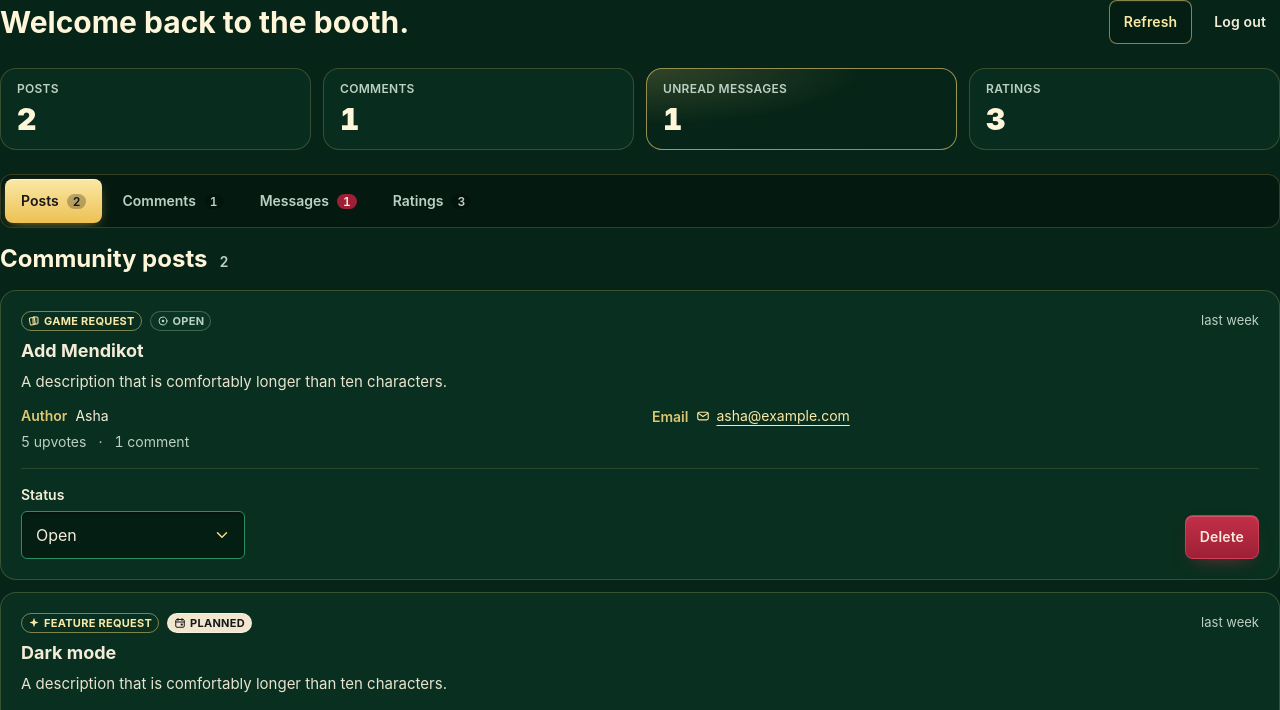
Test case: AdminApp — posts › deletes a post only after confirming in a dialog
Expected: the list item with test id "admin-post-1" is shown, [0, 290, 1279, 580]
Click the button with test id "admin-delete-1" at point(1222, 537), box [1185, 515, 1259, 559]
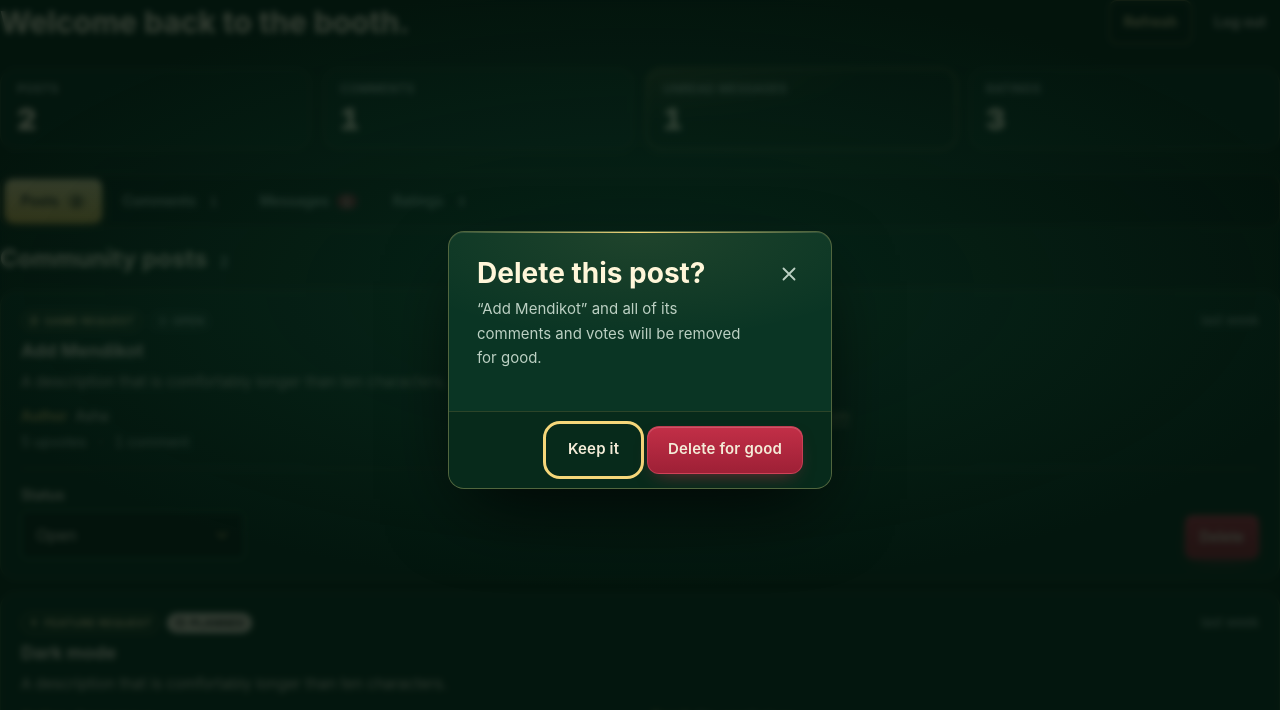
Click the button with test id "admin-confirm-cancel" at point(594, 450), box [548, 426, 639, 474]
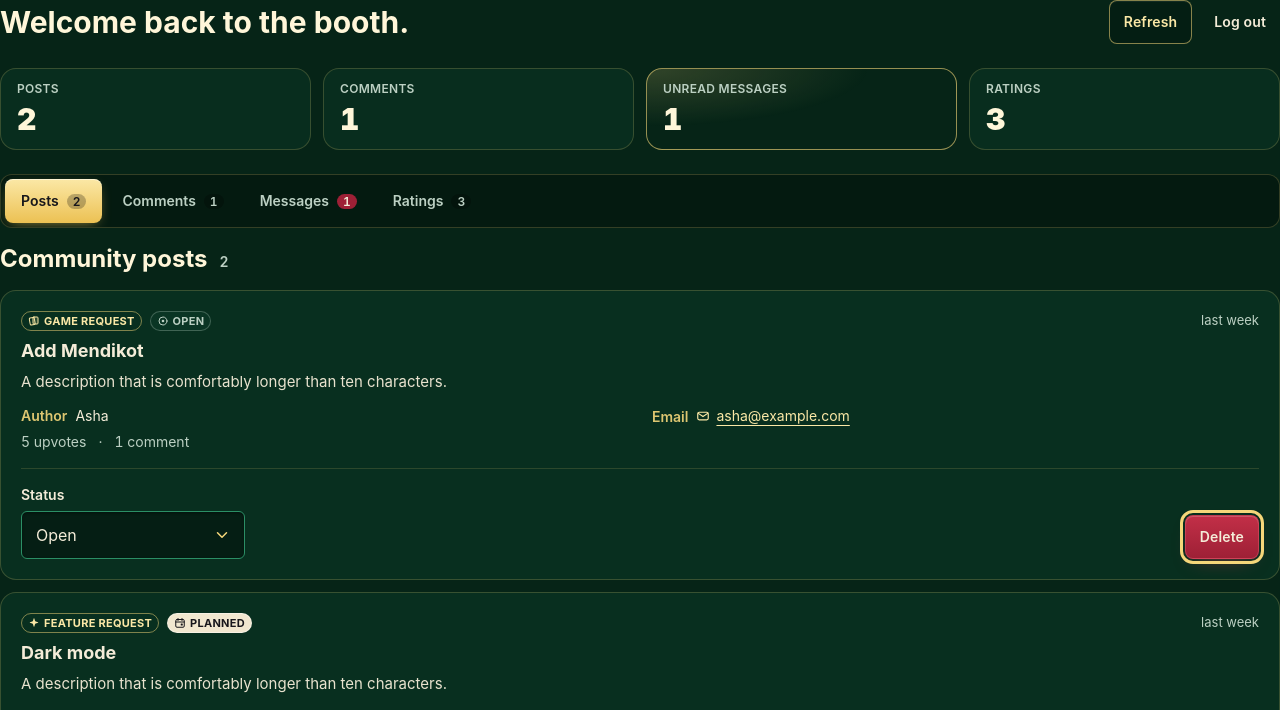
Expected: the dialog is gone
Click the button with test id "admin-delete-1" at point(1222, 537), box [1185, 515, 1259, 559]
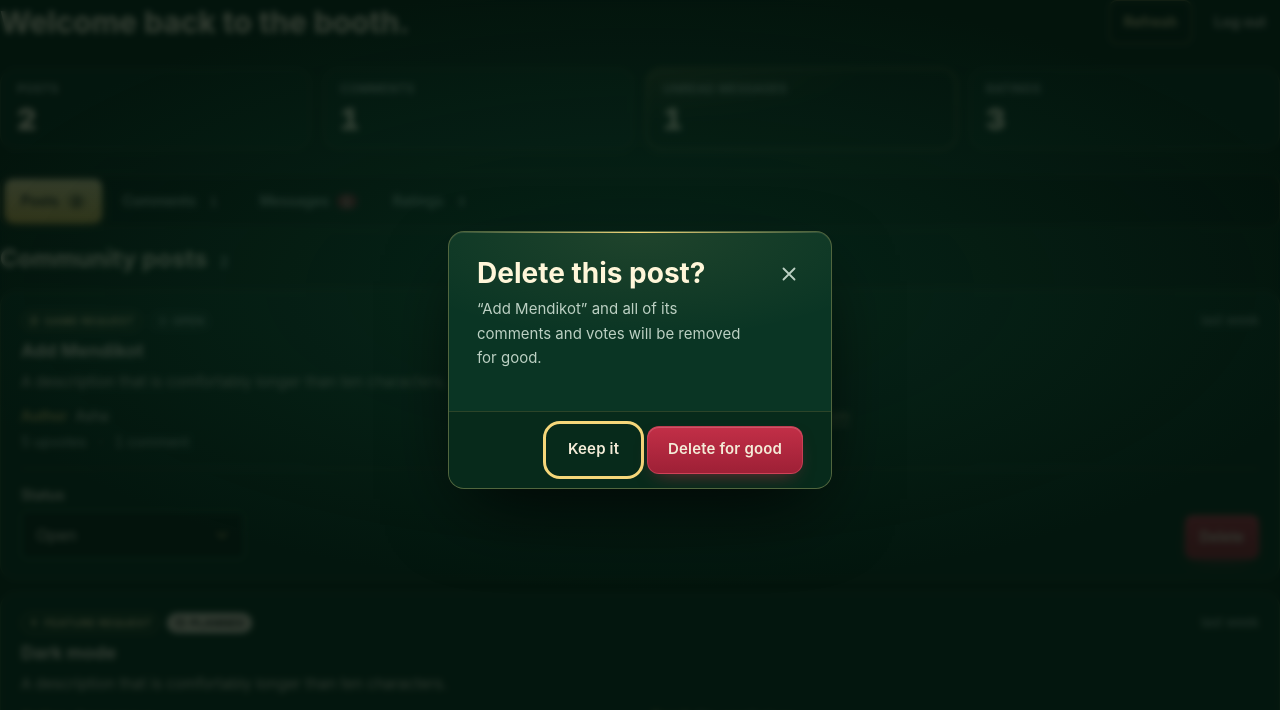
Click the button with test id "admin-confirm-delete" at point(725, 450), box [647, 426, 803, 474]
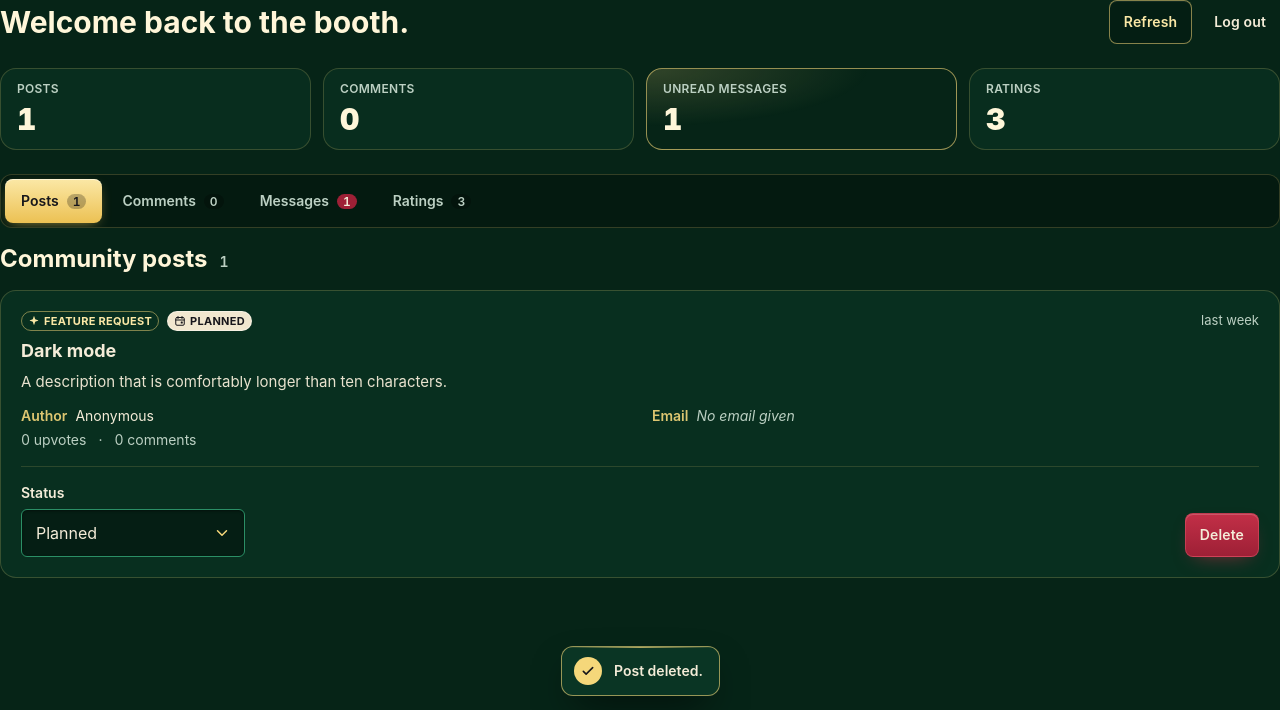
Expected: the list item with test id "admin-post-2" is shown, [0, 290, 1279, 578]
Expected: the list item with test id "admin-post-1" is gone
Expected: the element with test id "toast" reads "Post deleted.", [614, 662, 702, 679]
